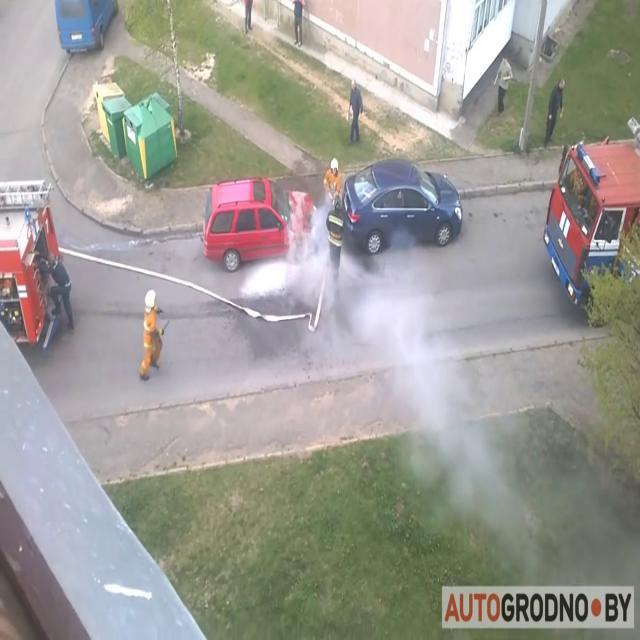Fire: (141, 289, 157, 373)
Smoke: (341, 219, 520, 599)
